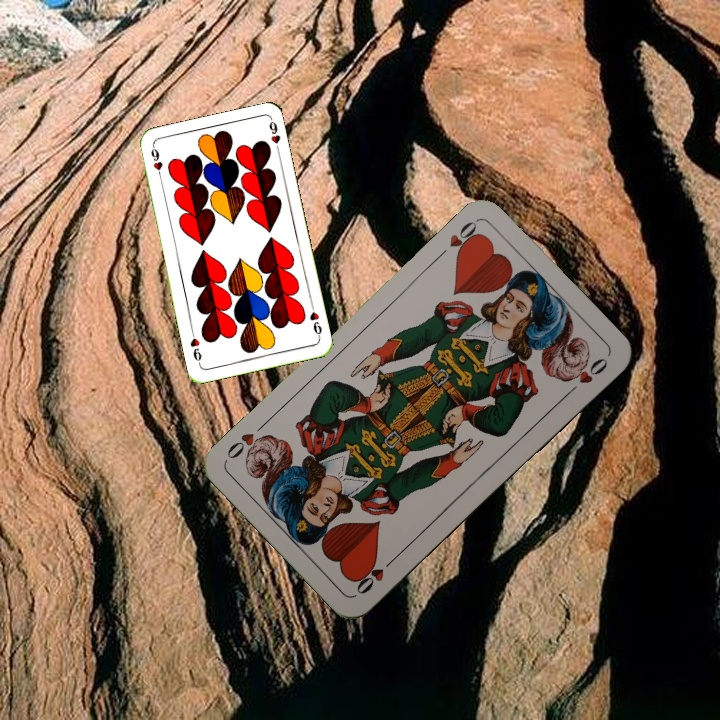H9: (147, 142, 165, 183), (306, 301, 324, 341)
HO: (433, 216, 485, 262), (352, 552, 399, 597)
